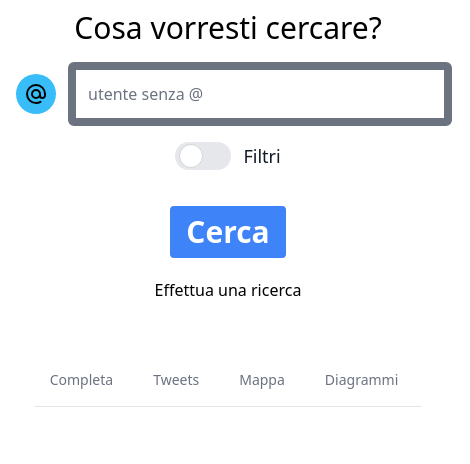
SearchForm component › should show error when no query is filled
Click the button "Cerca" at point(228, 232), box [170,206,286,258]
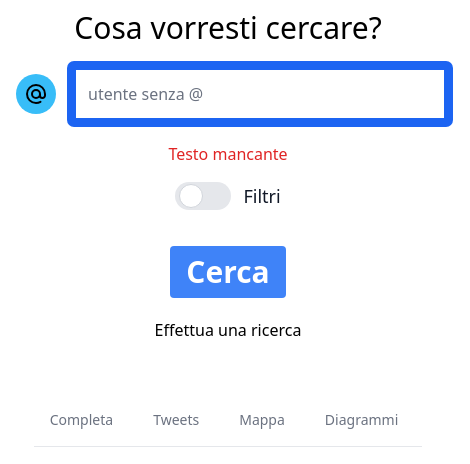
Expected: the text "Testo mancante?" is shown, [168,143,288,165]
